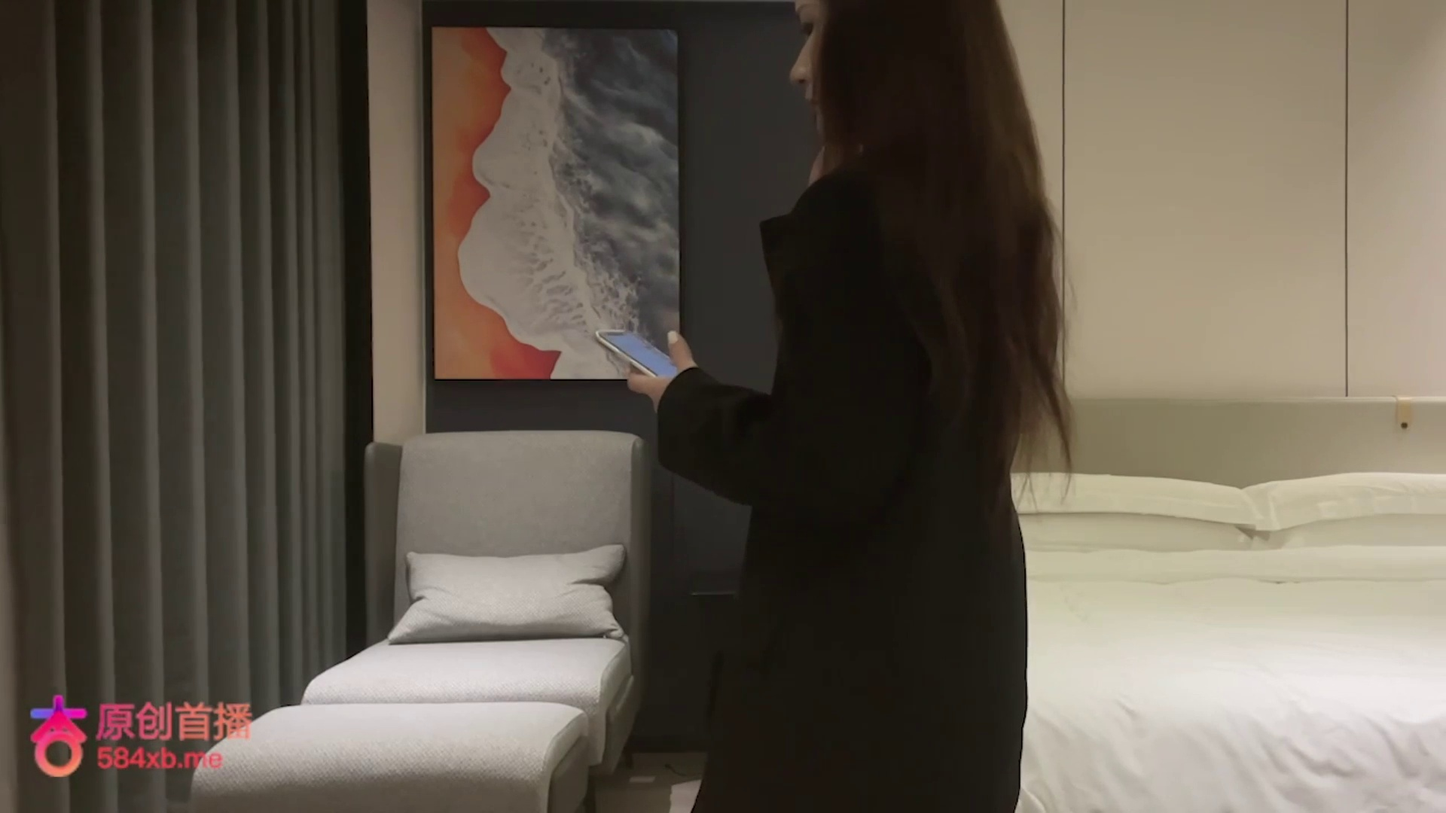stand: (621, 2, 1075, 802)
